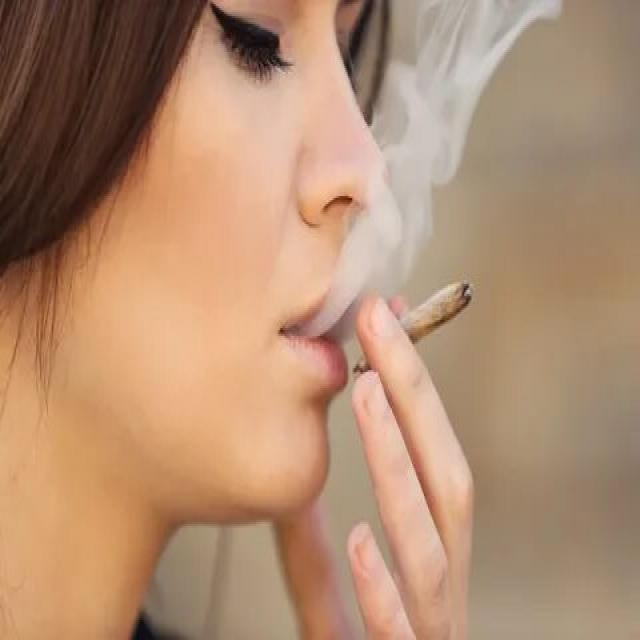smoke: (360, 278, 477, 368)
